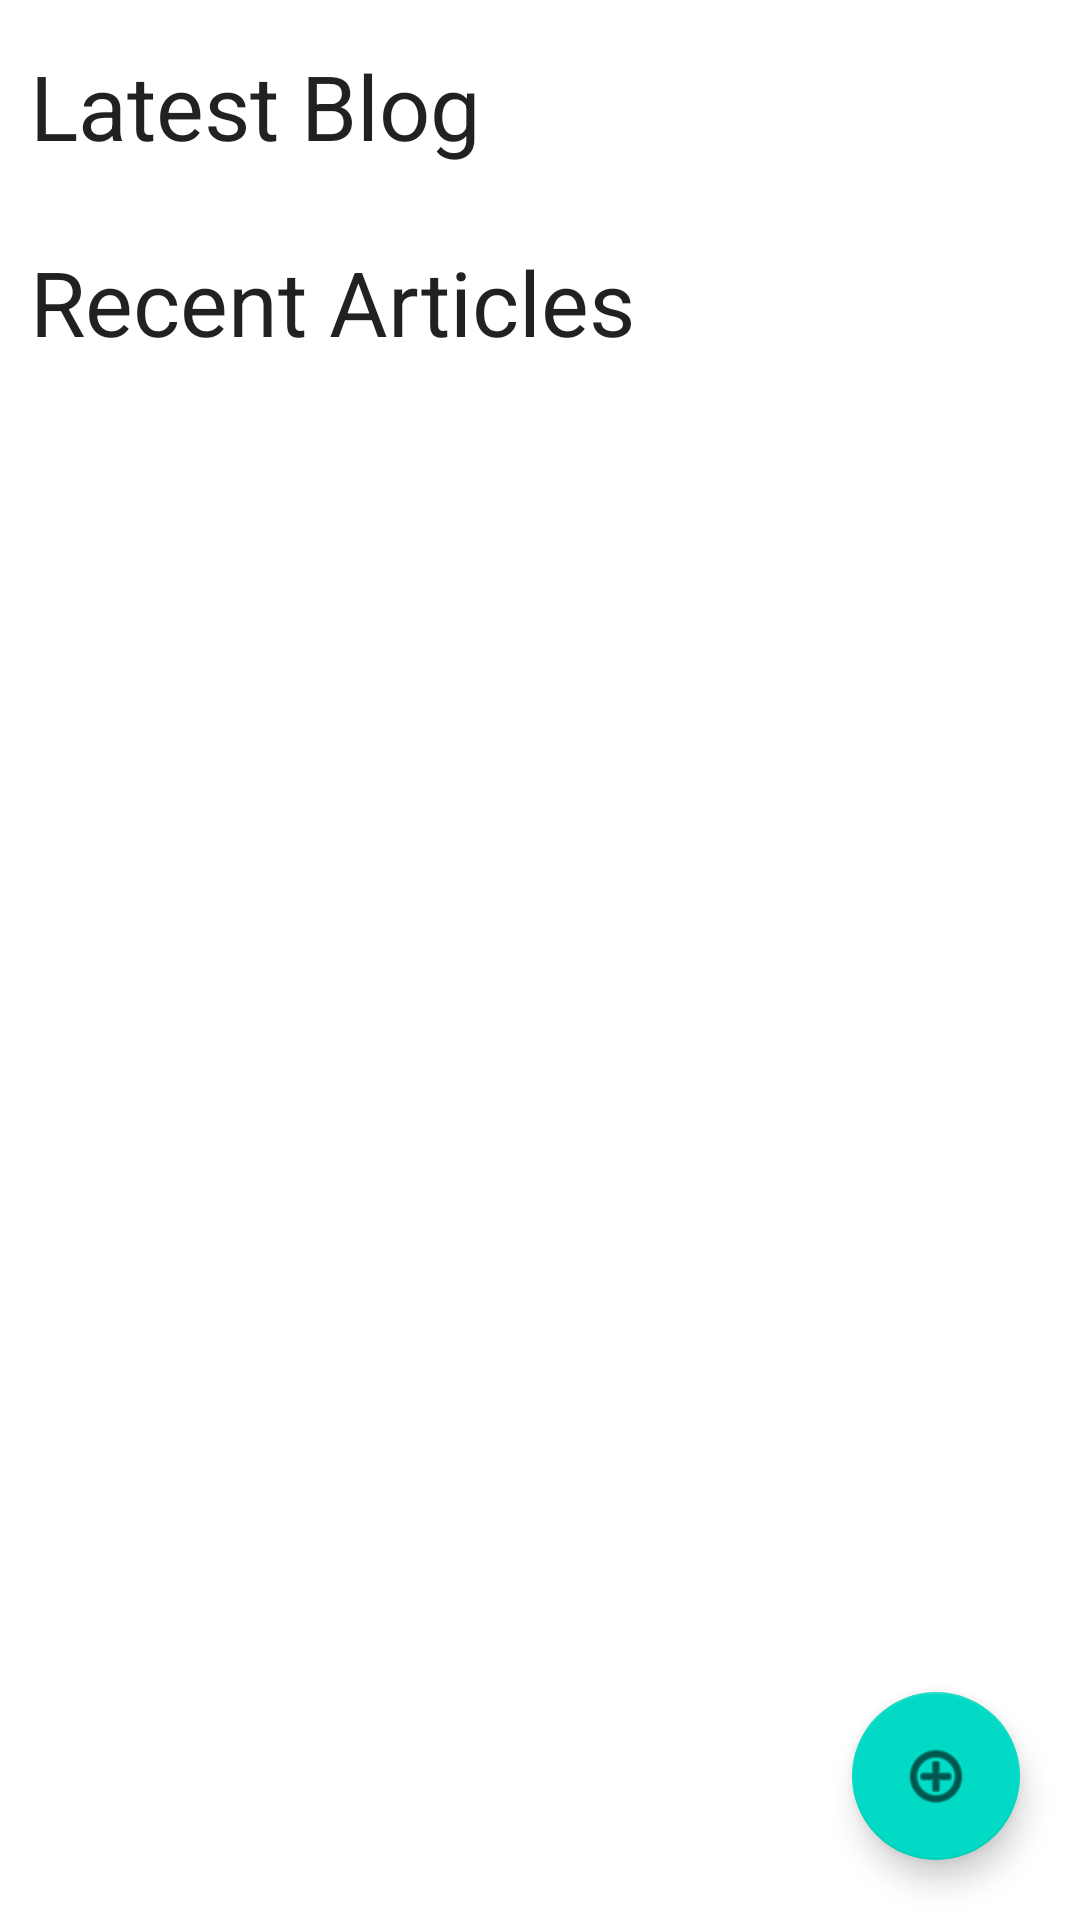

Locate icon controls on the screen. Image size 1080 x 1920, boxes as region(x1, y1, x2, y2).
add imgae: region(852, 1692, 1020, 1860)
